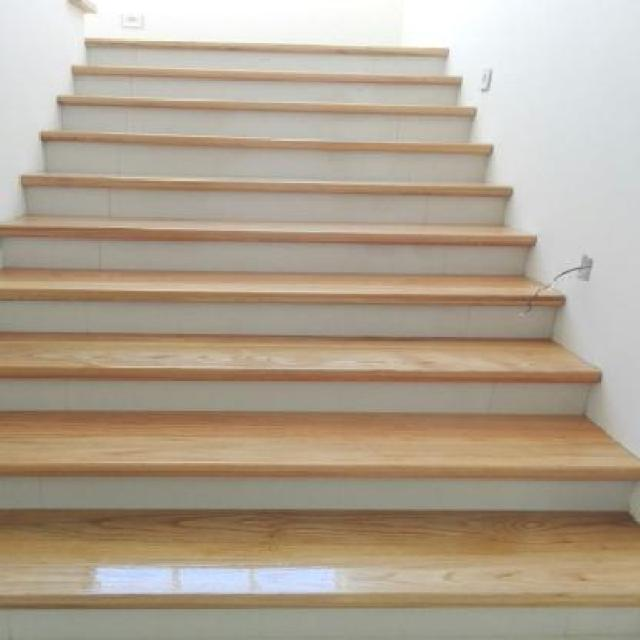stair: (0, 0, 638, 626)
